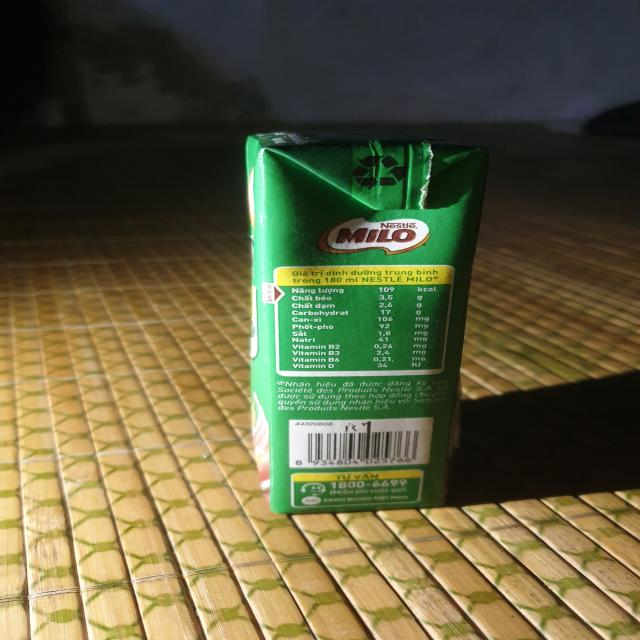Milo: (247, 134, 484, 514)
